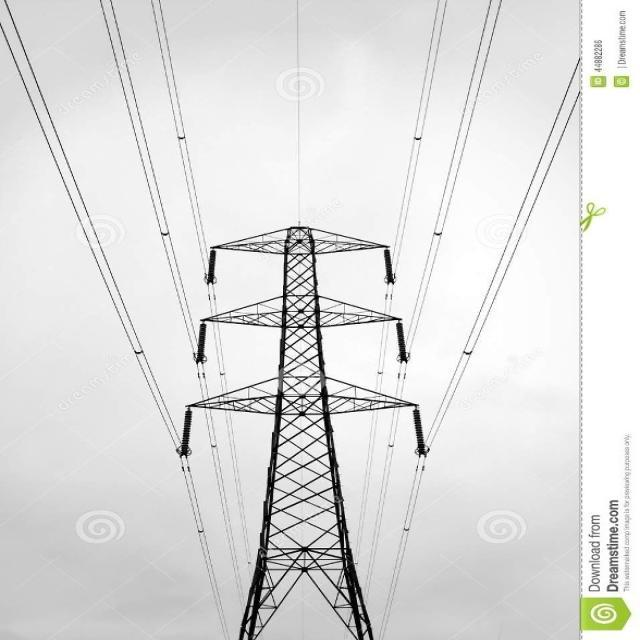non-critical vegetation: (190, 203, 418, 561)
